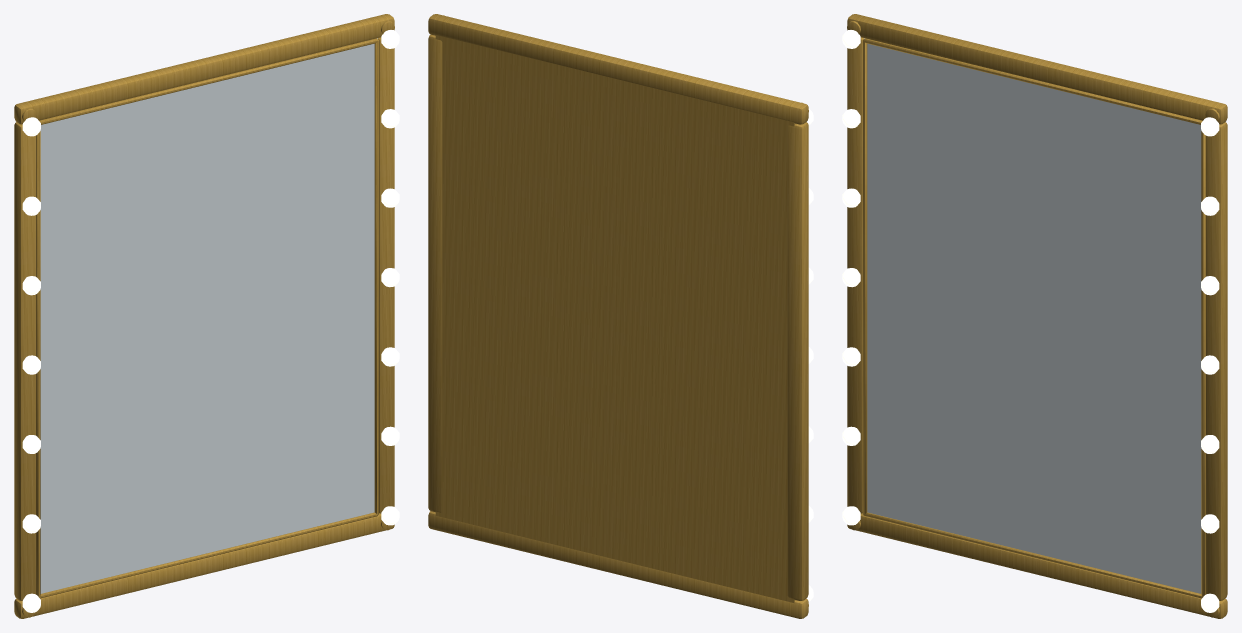
Rendered from espelho-18x24-luz.glb.
The picture shows the model from 3 angles, left to right: view 1: azimuth 30°, elevation 25°; view 2: azimuth 150°, elevation 25°; view 3: azimuth 330°, elevation 25°; orthographic projection.
Parts seen in each view (by area): view 1: vidro, montante, travessa, montante.001, travessa.001, filete.003, filete.002, filete, filete.001; view 2: fundo, montante, travessa, montante.001, travessa.001; view 3: vidro, montante.001, travessa, montante, travessa.001, filete.002, filete.003, filete, filete.001.
Part boxes in pixels (bbox=[...]): vidro: bbox=[40, 38, 377, 593]; montante: bbox=[14, 122, 35, 600]; travessa: bbox=[14, 14, 394, 124]; montante.001: bbox=[377, 37, 394, 513]; travessa.001: bbox=[14, 513, 394, 618]; filete.003: bbox=[374, 39, 378, 515]; filete.002: bbox=[36, 131, 40, 597]; filete: bbox=[39, 38, 378, 124]; filete.001: bbox=[39, 512, 378, 598]; fundo: bbox=[435, 35, 795, 602]; montante: bbox=[787, 122, 808, 600]; travessa: bbox=[428, 14, 808, 124]; montante.001: bbox=[428, 34, 442, 512]; travessa.001: bbox=[428, 511, 808, 618]; vidro: bbox=[864, 38, 1201, 593]; montante.001: bbox=[1206, 122, 1227, 600]; travessa: bbox=[847, 14, 1227, 124]; montante: bbox=[847, 37, 864, 513]; travessa.001: bbox=[847, 513, 1227, 618]; filete.002: bbox=[863, 39, 867, 515]; filete.003: bbox=[1201, 131, 1205, 597]; filete: bbox=[863, 38, 1202, 124]; filete.001: bbox=[863, 512, 1202, 598].
Bounding box in the file's own units: 1.98 × 2.58 × 0.1378.
3 materials, 1 textured.
